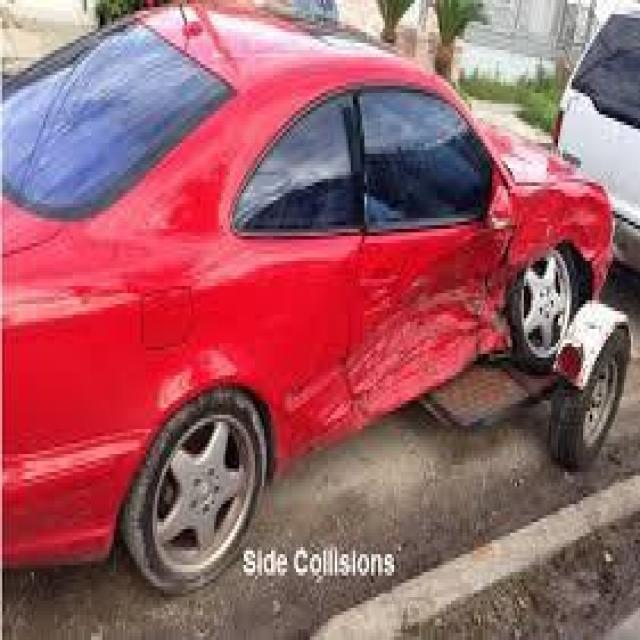damaged: (330, 261, 515, 418), (460, 172, 613, 268)
